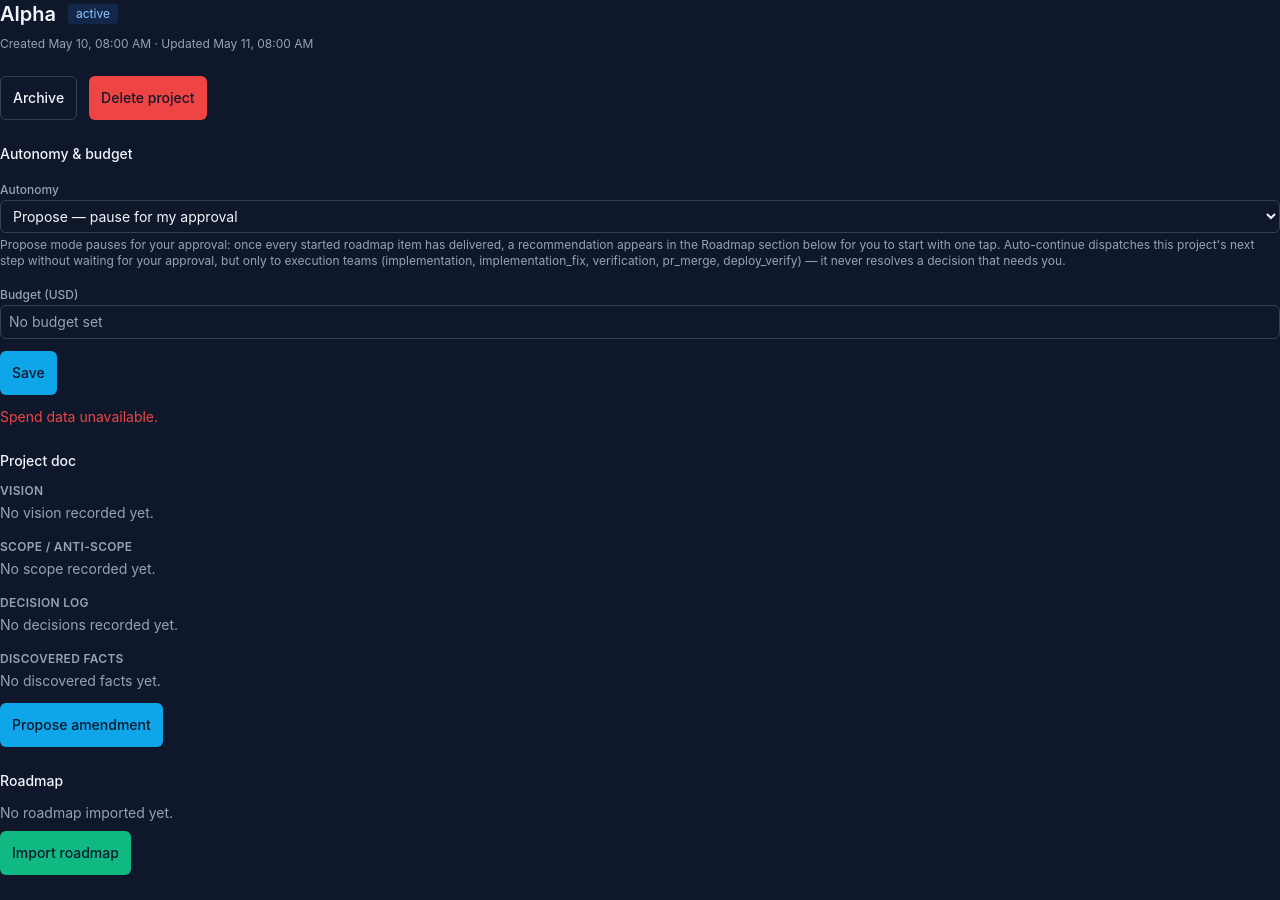
it: Project › propose-amendment action › shows an inline error and keeps the modal open when proposing fails
Click the button with test id "propose-amendment-button" at (81,725), box [0, 703, 163, 747]
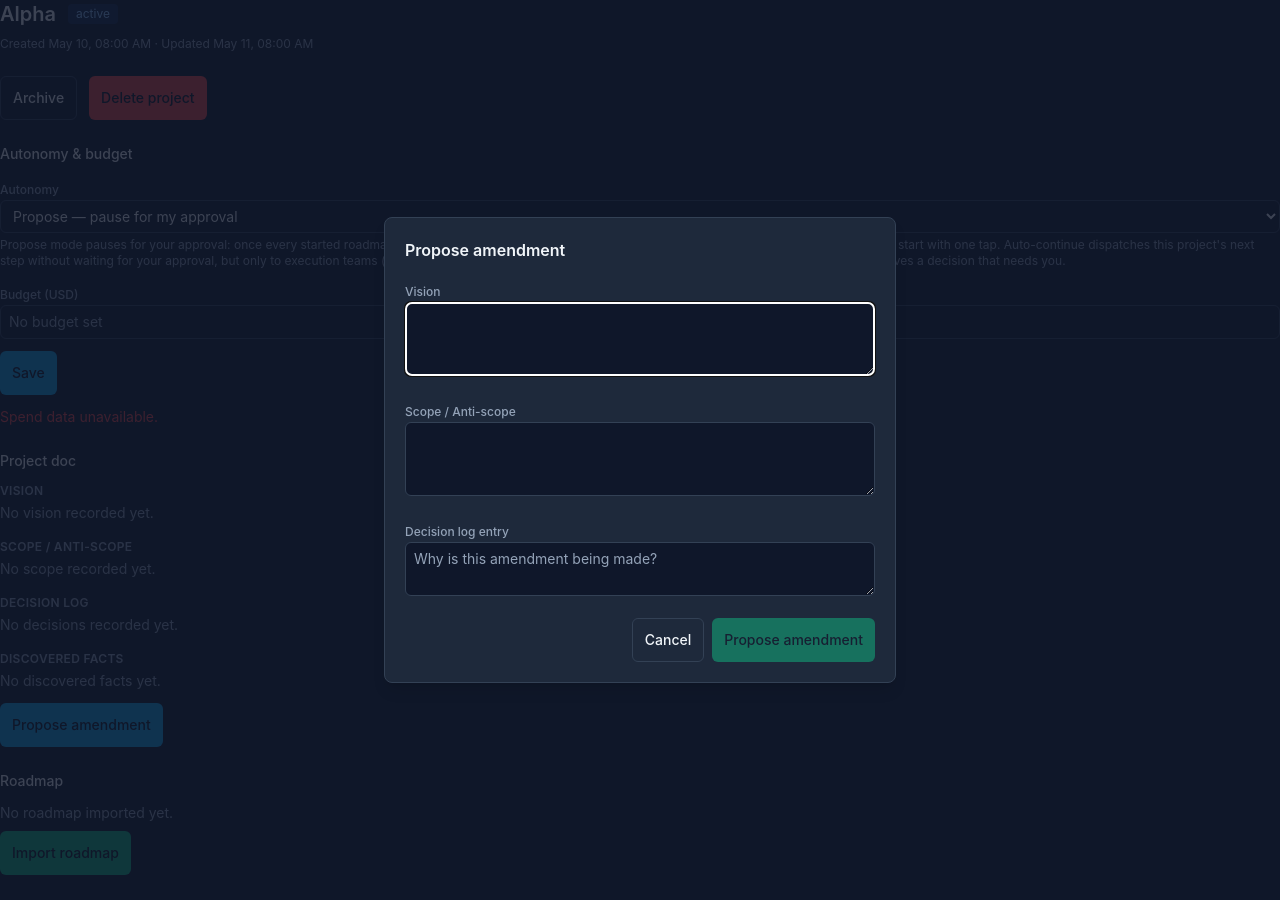
Type "V" into the text box with test id "amendment-vision" at (640,339), box [405, 302, 875, 376]
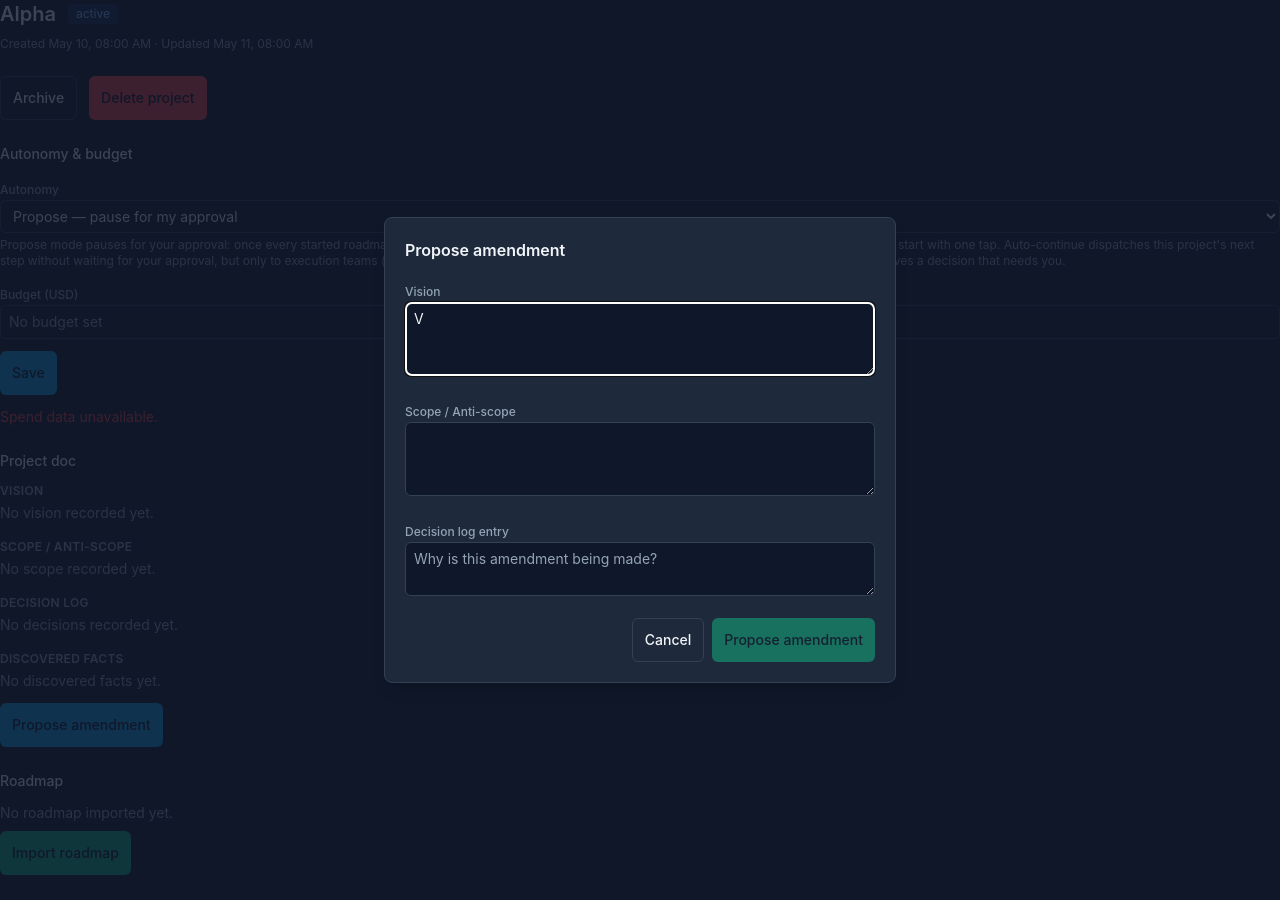
Type "S" into the text box with test id "amendment-scope" at (640,459), box [405, 422, 875, 496]
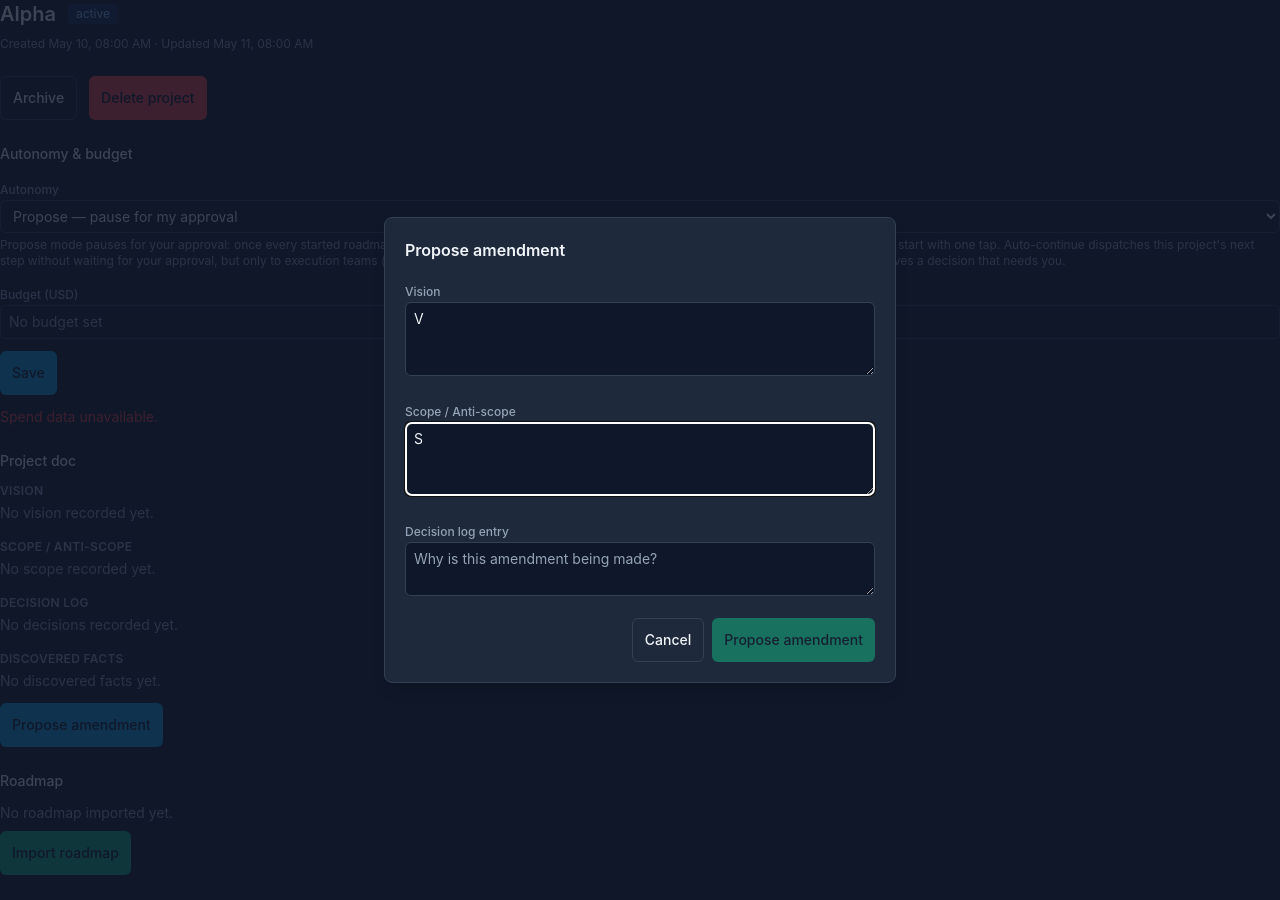
Type "D" into the text box with test id "amendment-decision-entry" at (640,569), box [405, 542, 875, 596]
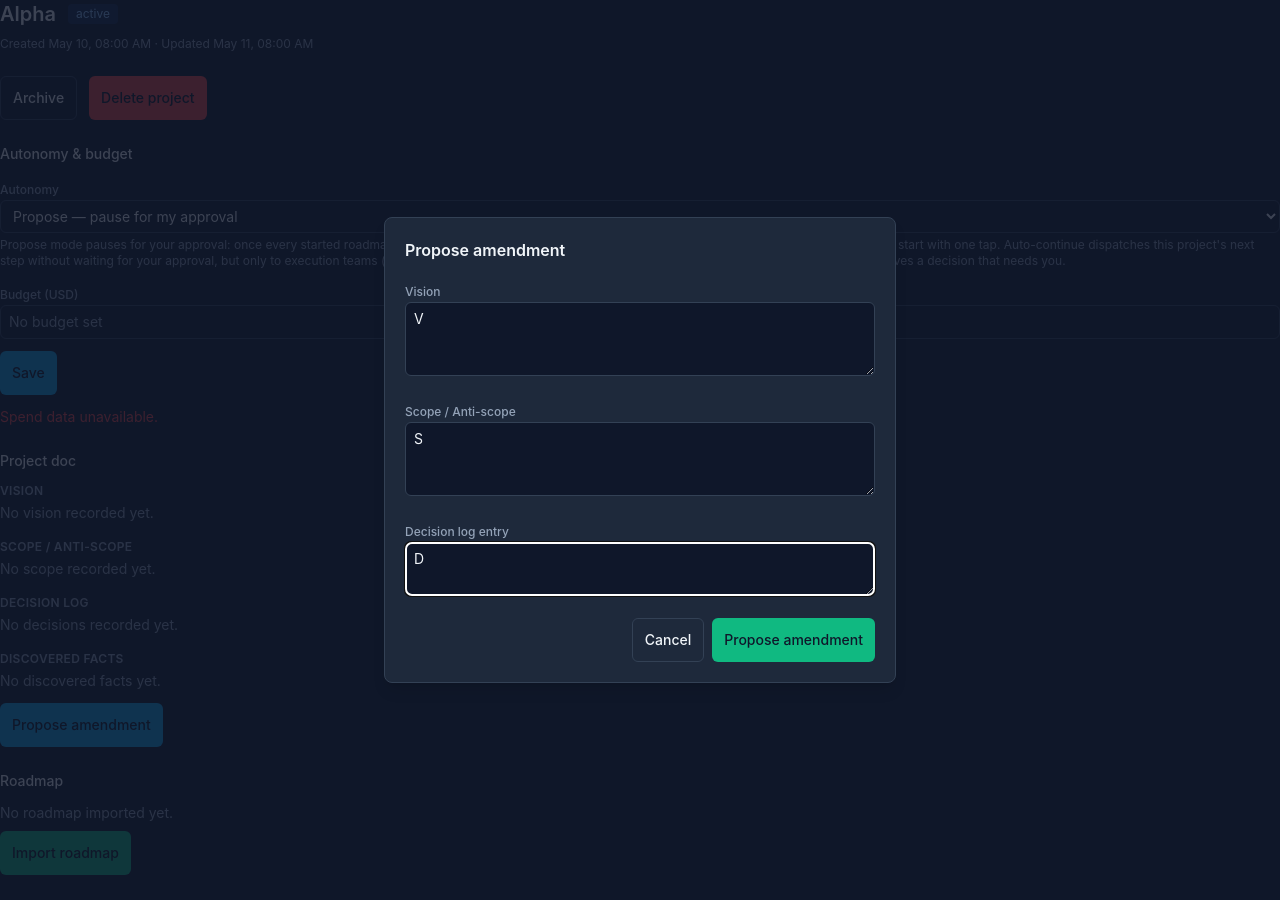
Click the button with test id "propose-amendment-submit" at (794,640), box [712, 618, 875, 662]
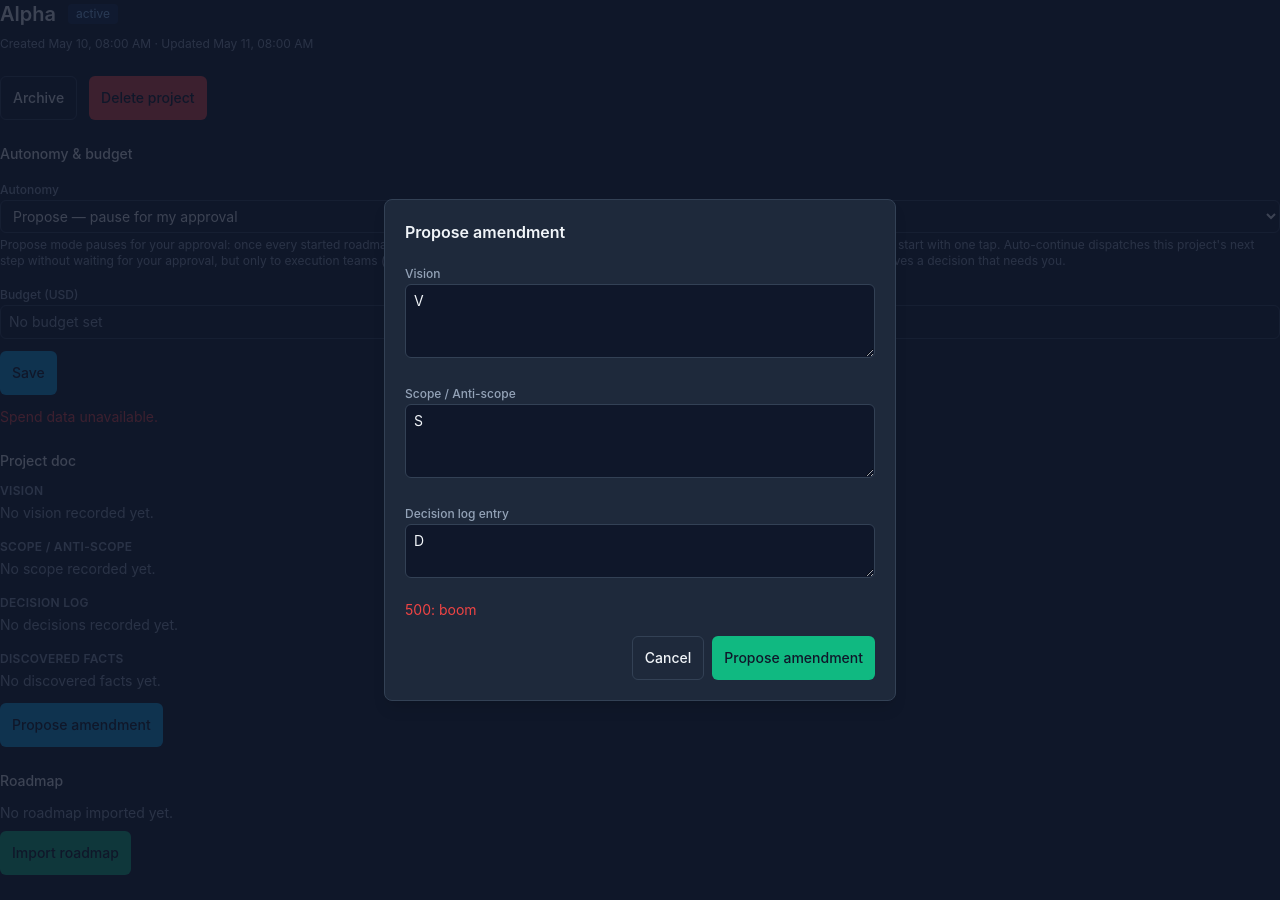
Expected: the dialog with test id "propose-amendment-dialog" is shown, [384, 199, 896, 701]
Expected: the message with test id "propose-amendment-error" shows "500", [405, 601, 477, 618]
